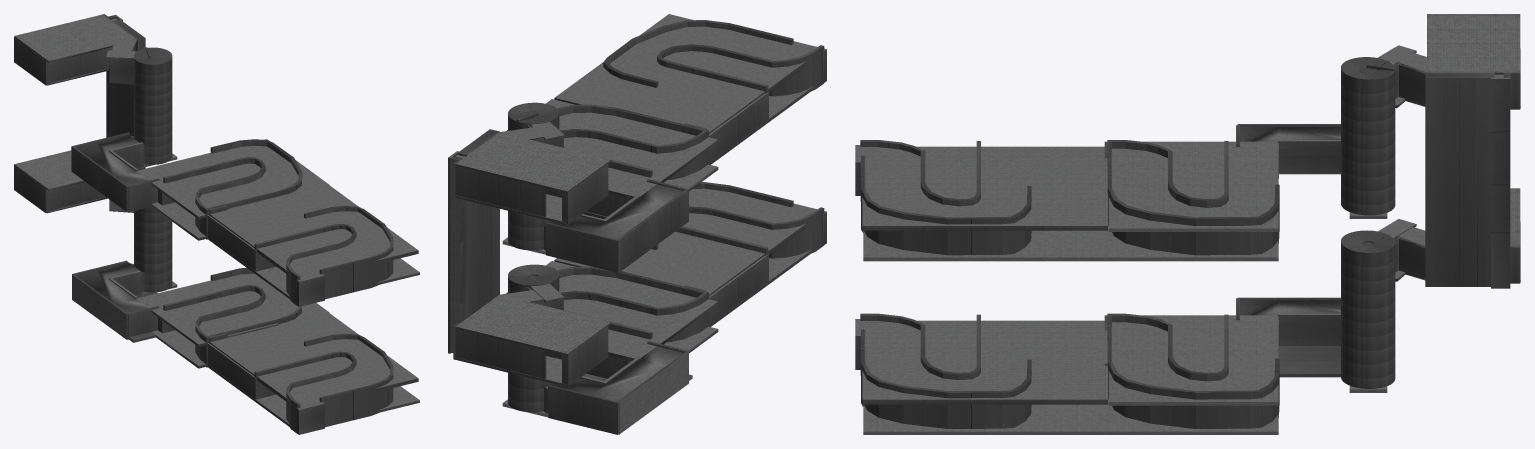
File: LabMap2.fbx
3 renders of one model, left to right at view 1: azimuth 30°, elevation 25°; view 2: azimuth 150°, elevation 25°; view 3: azimuth 270°, elevation 25°, orthographic. The views are drawn at different scales.
Visible parts, largest first — view 1: Cube__229__1.001, Cube__229__1.002, Cube__351_, Cube__351__001, Cube__259__1, Cube_001_001, Cube_001, Cube__2_, Cube_003__1_, Cube__1_, Cube__2_.001, Cube__225__1 (+22 smaller); view 2: Cube__351_, Cube__229__1.002, Cube__229__1.001, Cube__351__001, Cube__259__1, Cube__259__1.001, Cube__283__1, Cube__1_, Cube_003__1_, Cube__230__1, Cube__260__1, Cube__226__1 (+24 smaller); view 3: Cube__229__1.002, Cube__229__1.001, Cube__351_, Cube__351__001, Cube__283__1, Cube__259__1, Cube_001__1_.001, Cube_001, Cube_001__1_, Cube_001_001, Cube__193__1, Cube__292__1 (+13 smaller).
Boxes of the visible parts, x1=… form: Cube__229__1.001: x1=76, y1=47, x2=329, y2=219; Cube__229__1.002: x1=75, y1=206, x2=329, y2=346; Cube__351_: x1=209, y1=184, x2=418, y2=278; Cube__351__001: x1=209, y1=312, x2=418, y2=406; Cube__259__1: x1=14, y1=14, x2=136, y2=62; Cube_001_001: x1=304, y1=334, x2=393, y2=427; Cube_001: x1=304, y1=206, x2=393, y2=299; Cube__2_: x1=163, y1=157, x2=265, y2=239; Cube_003__1_: x1=254, y1=351, x2=356, y2=433; Cube__1_: x1=254, y1=224, x2=356, y2=305; Cube__2_.001: x1=163, y1=285, x2=265, y2=367; Cube__225__1: x1=72, y1=146, x2=128, y2=211; Cube__351_: x1=554, y1=14, x2=813, y2=133; Cube__229__1.002: x1=508, y1=261, x2=718, y2=413; Cube__229__1.001: x1=508, y1=99, x2=718, y2=250; Cube__351__001: x1=554, y1=188, x2=813, y2=296; Cube__259__1: x1=455, y1=127, x2=611, y2=192; Cube__259__1.001: x1=455, y1=290, x2=611, y2=355; Cube__283__1: x1=457, y1=129, x2=499, y2=317; Cube__1_: x1=657, y1=44, x2=824, y2=96; Cube_003__1_: x1=675, y1=206, x2=824, y2=258; Cube__230__1: x1=455, y1=166, x2=542, y2=216; Cube__260__1: x1=455, y1=328, x2=542, y2=378; Cube__226__1: x1=546, y1=222, x2=619, y2=272; Cube__229__1.002: x1=1108, y1=219, x2=1416, y2=405; Cube__229__1.001: x1=1108, y1=45, x2=1416, y2=231; Cube__351_: x1=862, y1=146, x2=1107, y2=230; Cube__351__001: x1=862, y1=320, x2=1107, y2=404; Cube__283__1: x1=1425, y1=72, x2=1494, y2=286; Cube__259__1: x1=1398, y1=14, x2=1520, y2=74; Cube_001__1_.001: x1=1107, y1=327, x2=1279, y2=428; Cube_001: x1=860, y1=155, x2=1031, y2=255; Cube_001__1_: x1=1107, y1=153, x2=1279, y2=255; Cube_001_001: x1=860, y1=329, x2=1031, y2=428; Cube__193__1: x1=863, y1=225, x2=1108, y2=261; Cube__292__1: x1=1491, y1=78, x2=1510, y2=288.
Size of the model in its own units: 5817 by 7851 by 15019.
